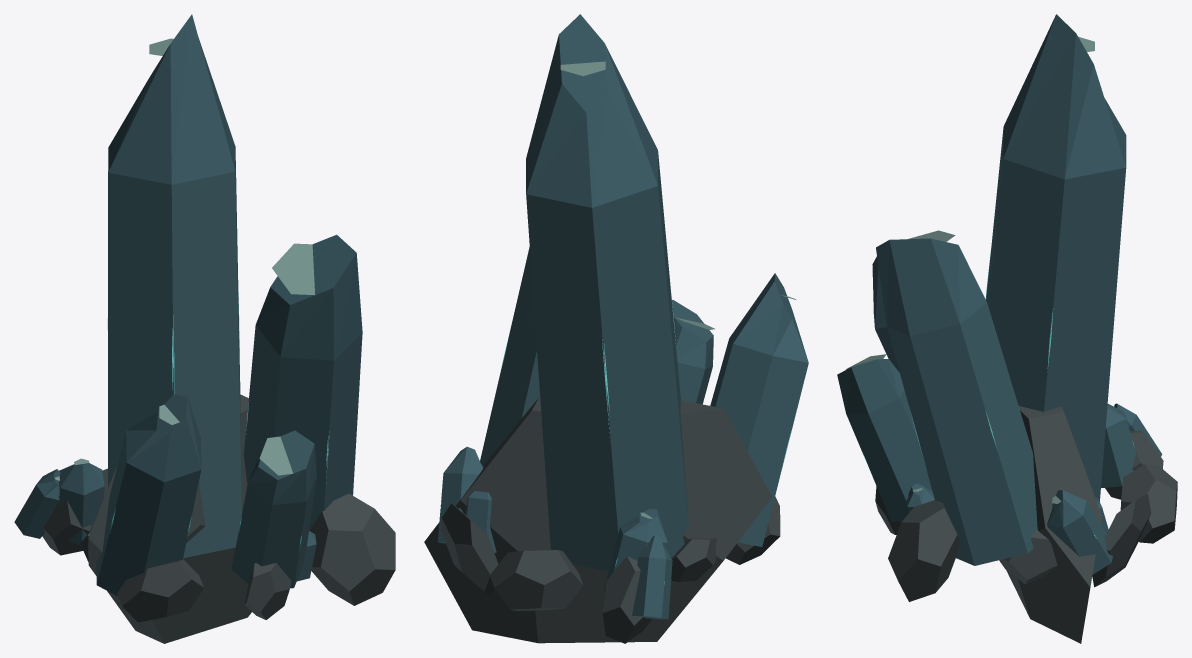
Rendered from resonant-spar.glb.
3 views of the same model, side by side, from view 1: azimuth 30°, elevation 25°; view 2: azimuth 150°, elevation 25°; view 3: azimuth 270°, elevation 25° (orthographic). The views are drawn at different scales.
Visible parts, largest first — view 1: Smoky blue crystal, Basalt matrix, Fresh mineral cleavage; view 2: Smoky blue crystal, Basalt matrix, Fresh mineral cleavage; view 3: Smoky blue crystal, Basalt matrix, Fresh mineral cleavage.
Part boxes in pixels (<box>): Smoky blue crystal: <box>14,14,362,596</box>; Basalt matrix: <box>42,394,395,643</box>; Fresh mineral cleavage: <box>54,38,314,480</box>; Smoky blue crystal: <box>438,14,808,619</box>; Basalt matrix: <box>424,397,780,643</box>; Fresh mineral cleavage: <box>560,61,796,518</box>; Smoky blue crystal: <box>837,14,1162,574</box>; Basalt matrix: <box>875,406,1177,643</box>; Fresh mineral cleavage: <box>846,37,1094,503</box>.
Bounding box in the file's own units: 1.61 × 3.37 × 1.77.
